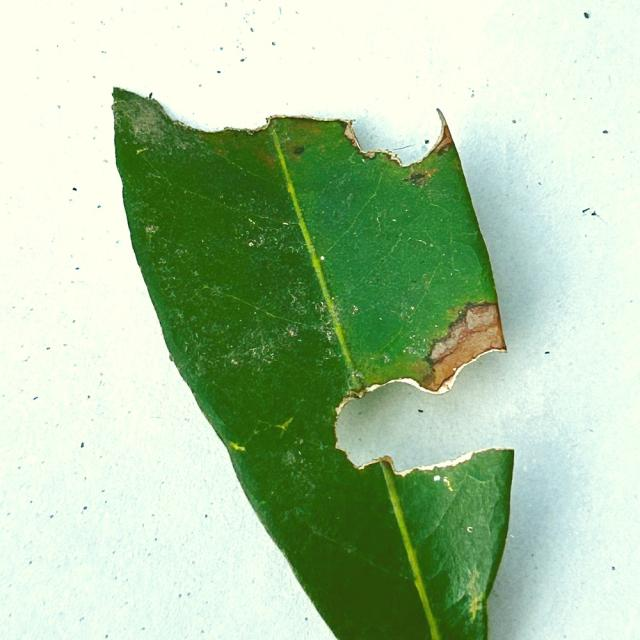Deficiency Leaf: (113, 85, 445, 164), (336, 341, 515, 475), (180, 83, 221, 116)
Lychee: (113, 88, 512, 639)
